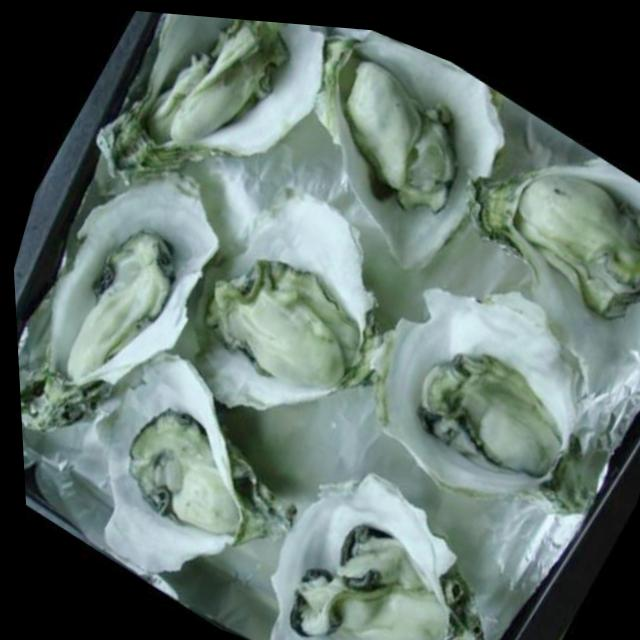Oyster-Open: (343, 248, 640, 547), (7, 133, 248, 490), (161, 159, 431, 468), (67, 338, 335, 625), (268, 22, 530, 298), (80, 7, 354, 251), (426, 106, 640, 392), (240, 440, 524, 640)
